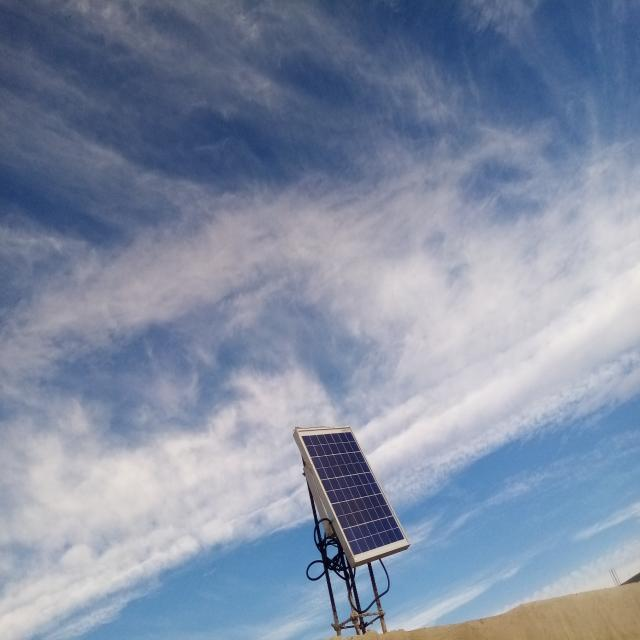no faulty: (296, 426, 410, 563)
